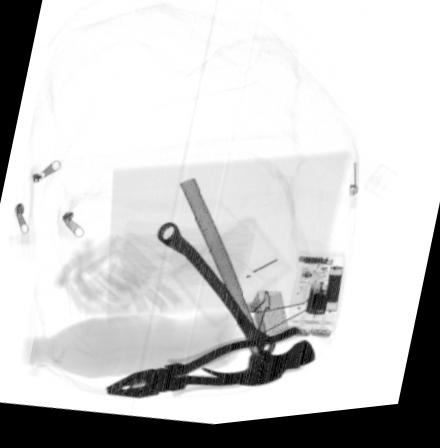Hammer: (176, 180, 318, 392)
Pliers: (102, 331, 302, 402)
Wrench: (153, 226, 274, 364)
